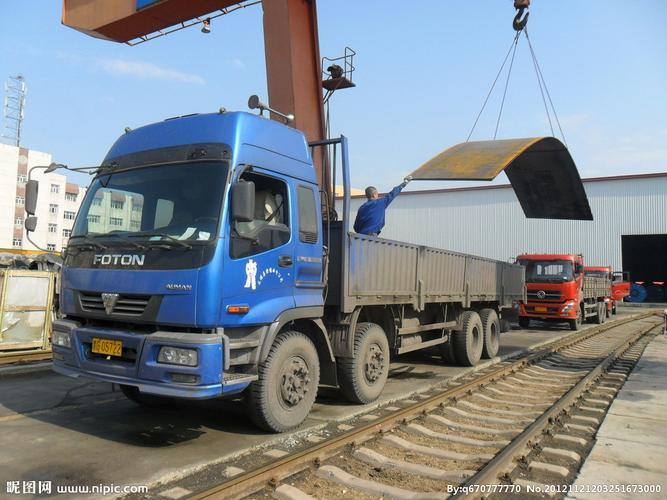卡车: (46, 97, 526, 448)
